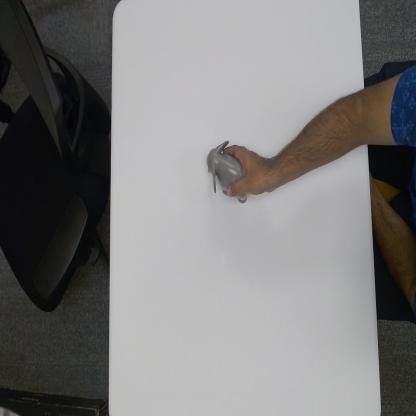Arm: (280, 82, 366, 186)
Elephant: (206, 138, 248, 203)
Hand: (224, 141, 280, 199)
